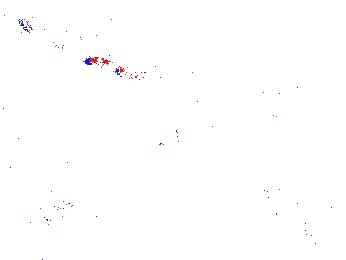X-ray fish: (266, 1, 294, 34), (272, 110, 313, 125)
glassfish: (73, 126, 185, 192)
red belly glassfish: (83, 46, 133, 69), (111, 65, 164, 83), (43, 36, 83, 55)
redtail glassfish: (1, 8, 35, 35)
